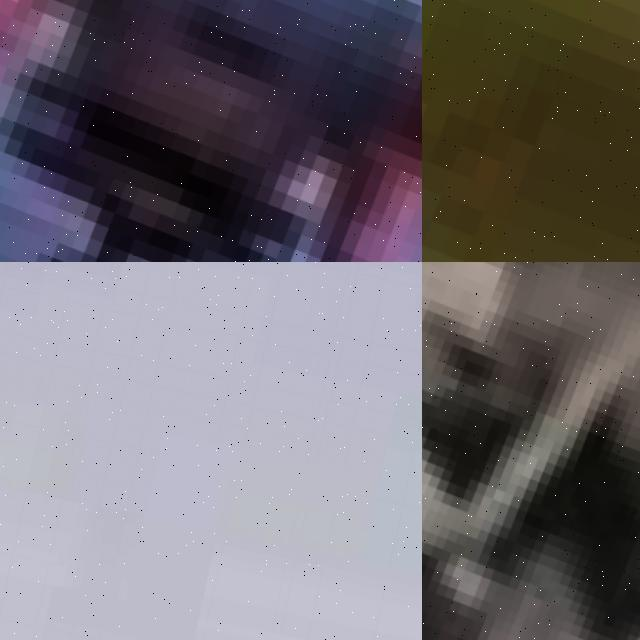drone: (0, 0, 422, 262), (422, 262, 640, 640), (422, 0, 640, 262)
